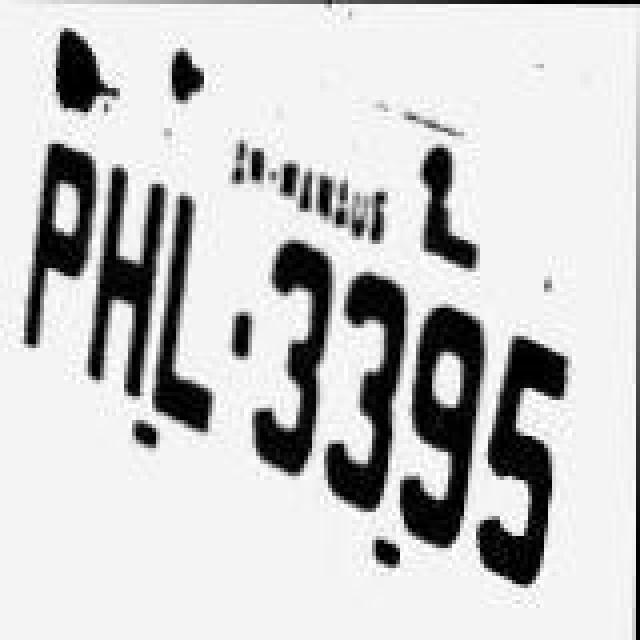3: (254, 228, 334, 512), (326, 258, 406, 530)
5: (482, 304, 578, 616)
9: (406, 286, 486, 582)
H: (92, 164, 160, 412)
L: (164, 192, 232, 436)
P: (12, 132, 96, 428)
